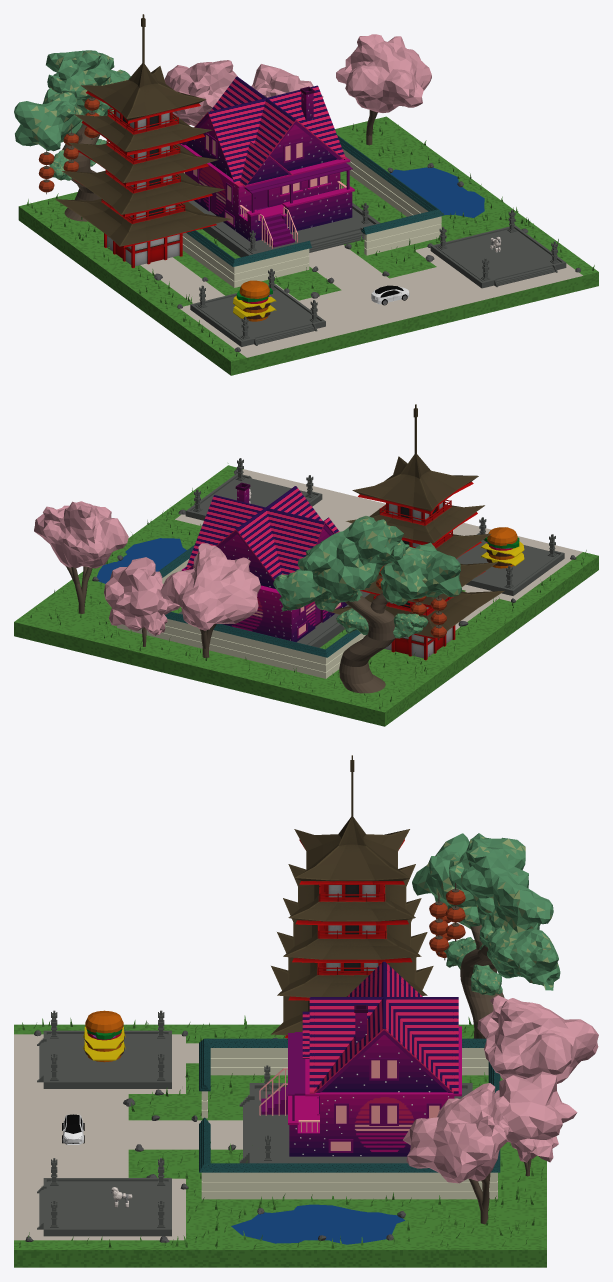
3 views of the same model, one above another, from view 1: azimuth 30°, elevation 25°; view 2: azimuth 150°, elevation 25°; view 3: azimuth 270°, elevation 25° (orthographic). The views are drawn at different scales.
Parts seen in each view (by area): view 1: Cube.005, Cube.156, OBJRANDOM_HAMBURGER, VEHICLES_TESLA; view 2: Cube.005, Cube.156, OBJRANDOM_HAMBURGER; view 3: Cube.005, Cube.156, OBJRANDOM_HAMBURGER.
Part boxes in pixels (x1=…): Cube.005: x1=14, y1=14, x2=598, y2=375; Cube.156: x1=179, y1=76, x2=354, y2=248; OBJRANDOM_HAMBURGER: x1=233, y1=280, x2=276, y2=321; VEHICLES_TESLA: x1=371, y1=285, x2=409, y2=305; Cube.005: x1=14, y1=404, x2=598, y2=726; Cube.156: x1=181, y1=482, x2=347, y2=642; OBJRANDOM_HAMBURGER: x1=480, y1=527, x2=524, y2=568; Cube.005: x1=14, y1=755, x2=598, y2=1267; Cube.156: x1=259, y1=961, x2=461, y2=1156; OBJRANDOM_HAMBURGER: x1=83, y1=1010, x2=125, y2=1062.
Bounding box in the file's own units: 4528 × 2698 × 4389.
Materials: 38 (7 with a texture image).
